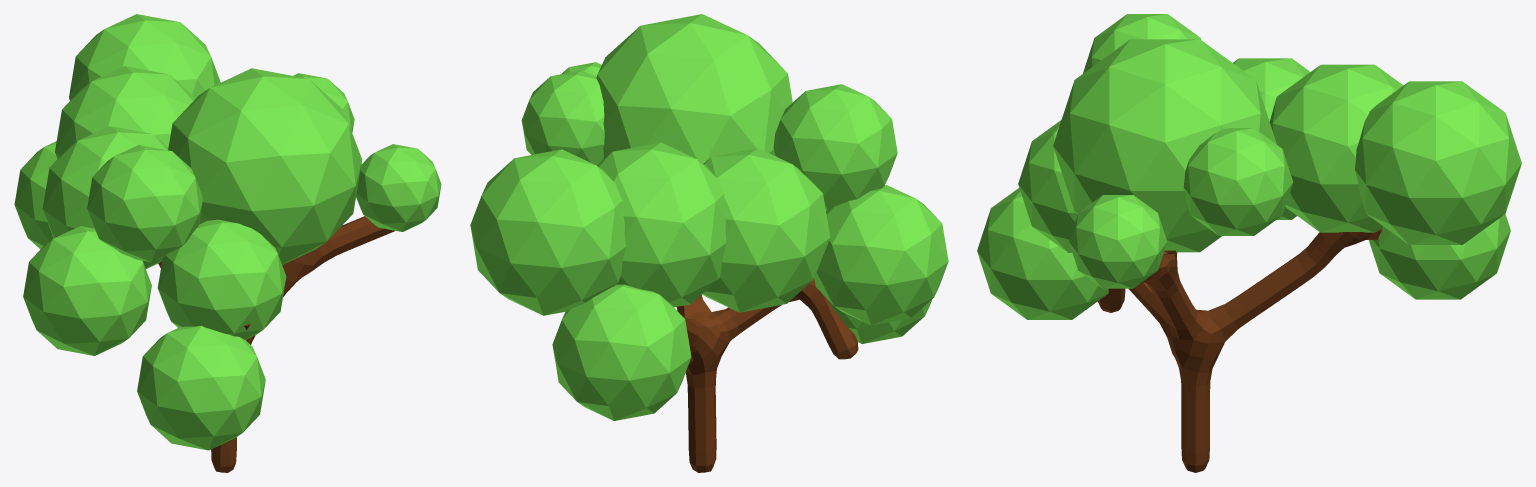
File: IsometricTile_Light_Tree.fbx
3 views of the same model, side by side, from view 1: azimuth 30°, elevation 25°; view 2: azimuth 150°, elevation 25°; view 3: azimuth 270°, elevation 25° (orthographic). The views are drawn at different scales.
Visible parts, largest first — view 1: Icosphere, Cube.002; view 2: Icosphere, Cube.002; view 3: Icosphere, Cube.002.
Part boxes in pixels (left/top/right/bottom): Icosphere: left=14, top=14, right=441, bottom=450; Cube.002: left=158, top=216, right=395, bottom=472; Icosphere: left=470, top=14, right=948, bottom=420; Cube.002: left=676, top=278, right=858, bottom=472; Icosphere: left=977, top=14, right=1521, bottom=319; Cube.002: left=1098, top=227, right=1382, bottom=472.
Size of the model in its own units: 2.95 by 2.62 by 2.64.
